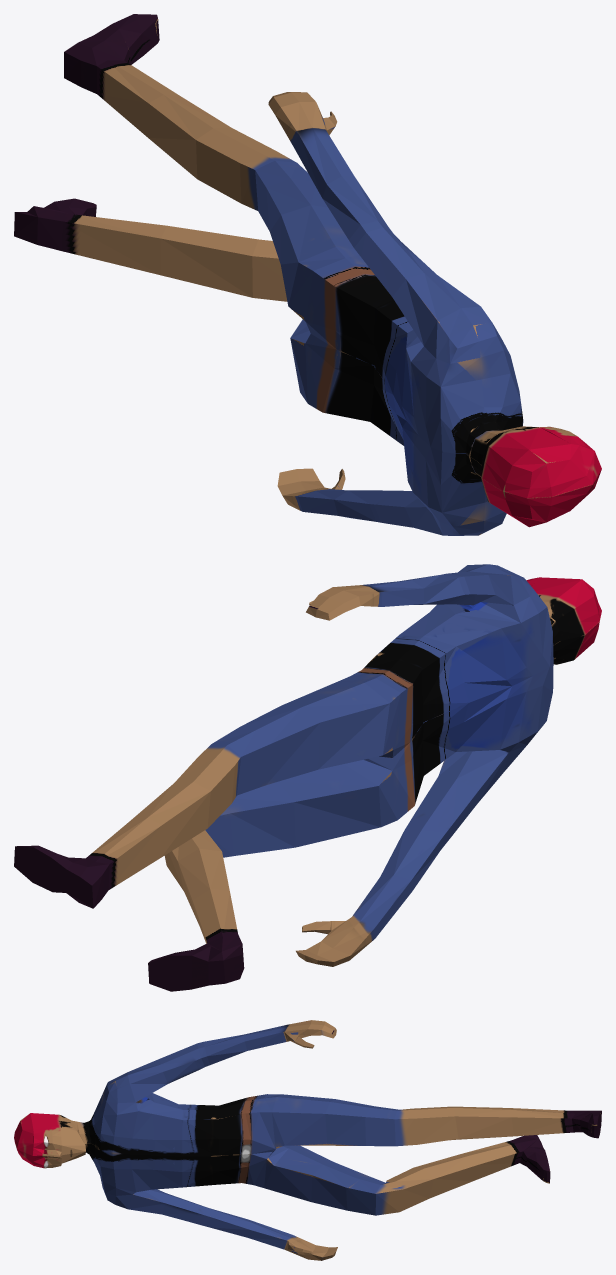
The model's file is mirrorman_000017.obj.
The picture shows the model from 3 angles, top to bottom: view 1: azimuth 30°, elevation 25°; view 2: azimuth 150°, elevation 25°; view 3: azimuth 270°, elevation 25°; orthographic projection. The views are drawn at different scales.
Visible parts, largest first — view 1: mirrorman_Cube.001_Material.001; view 2: mirrorman_Cube.001_Material.001; view 3: mirrorman_Cube.001_Material.001.
Part boxes in pixels (left/top/right/bottom): mirrorman_Cube.001_Material.001: left=14, top=14, right=601, bottom=535; mirrorman_Cube.001_Material.001: left=14, top=564, right=601, bottom=991; mirrorman_Cube.001_Material.001: left=14, top=1020, right=601, bottom=1260.
Size of the model in its own units: 0.4705 by 0.8148 by 1.89.
Materials: 1 (1 with a texture image).
